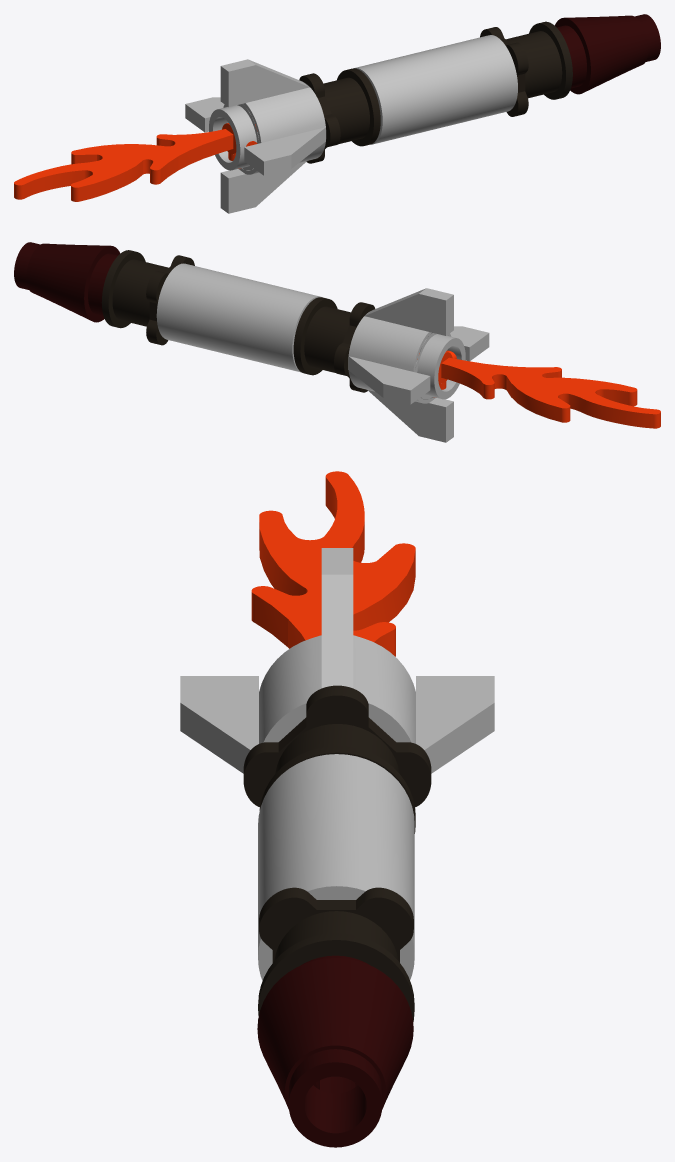
File: homing_shot.obj
3 views of the same model, one above another, from view 1: azimuth 30°, elevation 25°; view 2: azimuth 150°, elevation 25°; view 3: azimuth 270°, elevation 25° (orthographic). The views are drawn at different scales.
Visible parts, largest first — view 1: Inner-Node-homing__shot_dot_io-0.001; view 2: Inner-Node-homing__shot_dot_io-0.001; view 3: Inner-Node-homing__shot_dot_io-0.001.
Part boxes in pixels (x1,y1,x2,y2): Inner-Node-homing__shot_dot_io-0.001: [14, 14, 660, 213]; Inner-Node-homing__shot_dot_io-0.001: [14, 242, 660, 442]; Inner-Node-homing__shot_dot_io-0.001: [180, 471, 494, 1147].
Bounding box in the file's own units: 0.7201 × 0.1543 × 0.1547.
